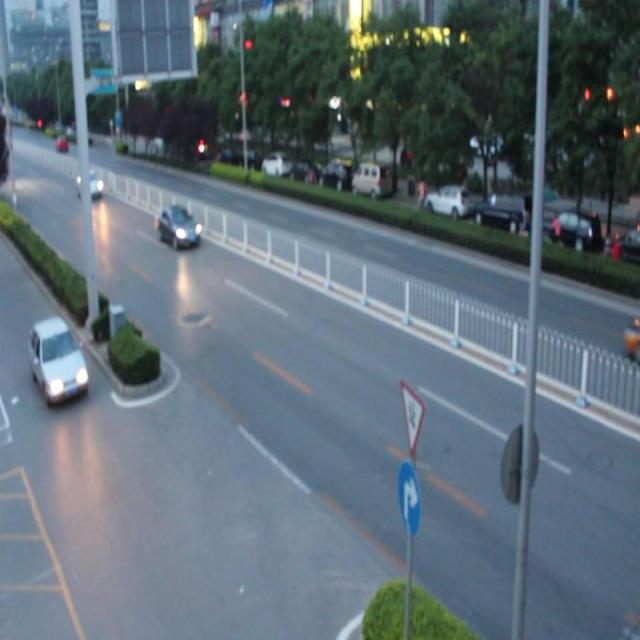car: (30, 318, 88, 404), (156, 205, 201, 247), (77, 171, 103, 199)
